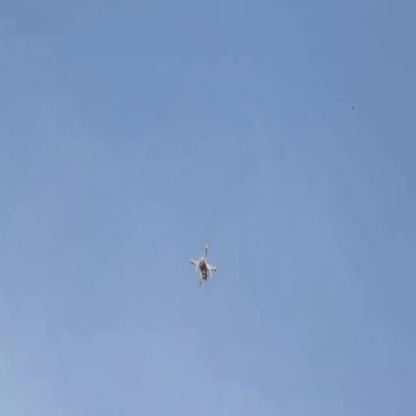drone: (187, 239, 221, 288)
